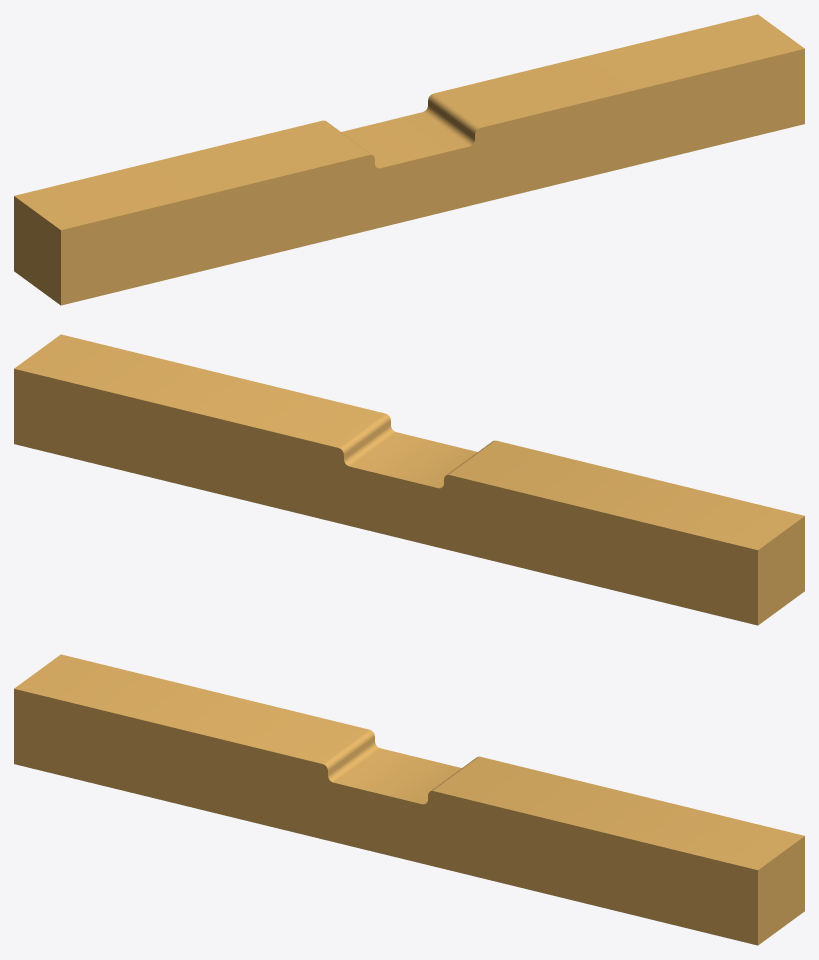
File: FLOOR .fbx
3 views of the same model, one above another, from view 1: azimuth 30°, elevation 25°; view 2: azimuth 150°, elevation 25°; view 3: azimuth 330°, elevation 25° (orthographic).
Visible parts, largest first — view 1: Cube; view 2: Cube; view 3: Cube.
Part boxes in pixels (x1=…): Cube: x1=14, y1=14, x2=804, y2=305; Cube: x1=14, y1=334, x2=804, y2=625; Cube: x1=14, y1=654, x2=804, y2=945.
Size of the model in its own units: 1829 by 177 by 200.
